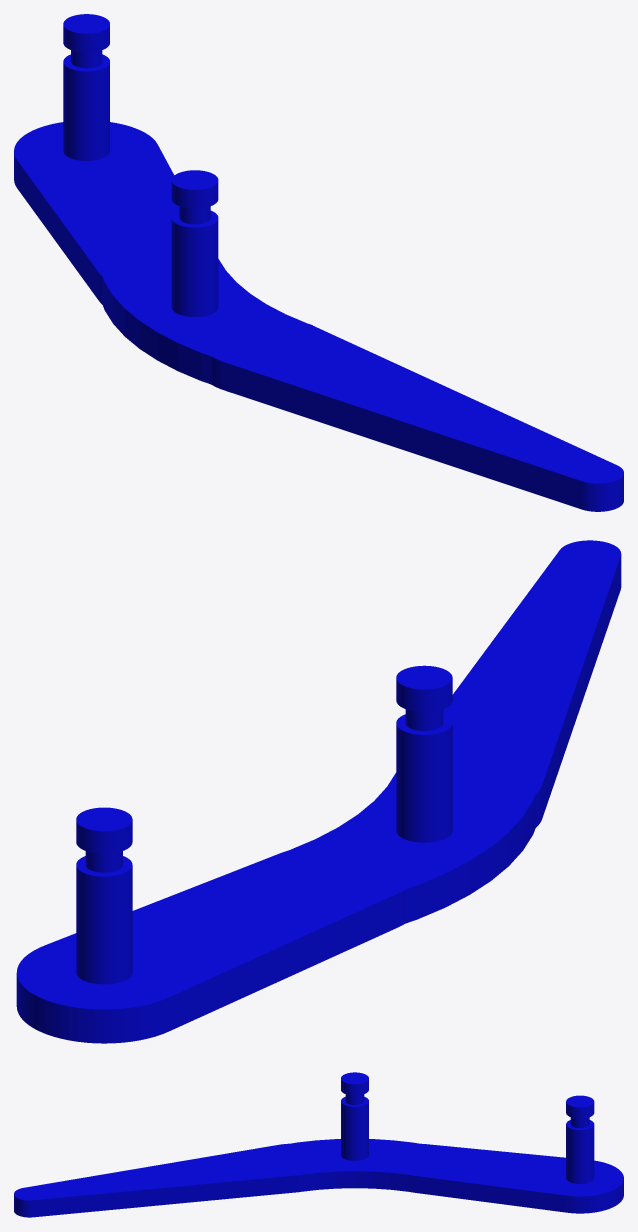
The model's file is leg_PCBWay Community.002.dae.
3 views of the same model, one above another, from view 1: azimuth 30°, elevation 25°; view 2: azimuth 150°, elevation 25°; view 3: azimuth 270°, elevation 25° (orthographic). The views are drawn at different scales.
Visible parts, largest first — view 1: tmp_export_leg_PCBWay Community.002; view 2: tmp_export_leg_PCBWay Community.002; view 3: tmp_export_leg_PCBWay Community.002.
Part boxes in pixels (bbox=[...]): tmp_export_leg_PCBWay Community.002: bbox=[14, 14, 623, 511]; tmp_export_leg_PCBWay Community.002: bbox=[16, 540, 621, 1043]; tmp_export_leg_PCBWay Community.002: bbox=[14, 1072, 623, 1217].
Bounding box in the file's own units: 0.0234 × 0.0975 × 0.0165.
